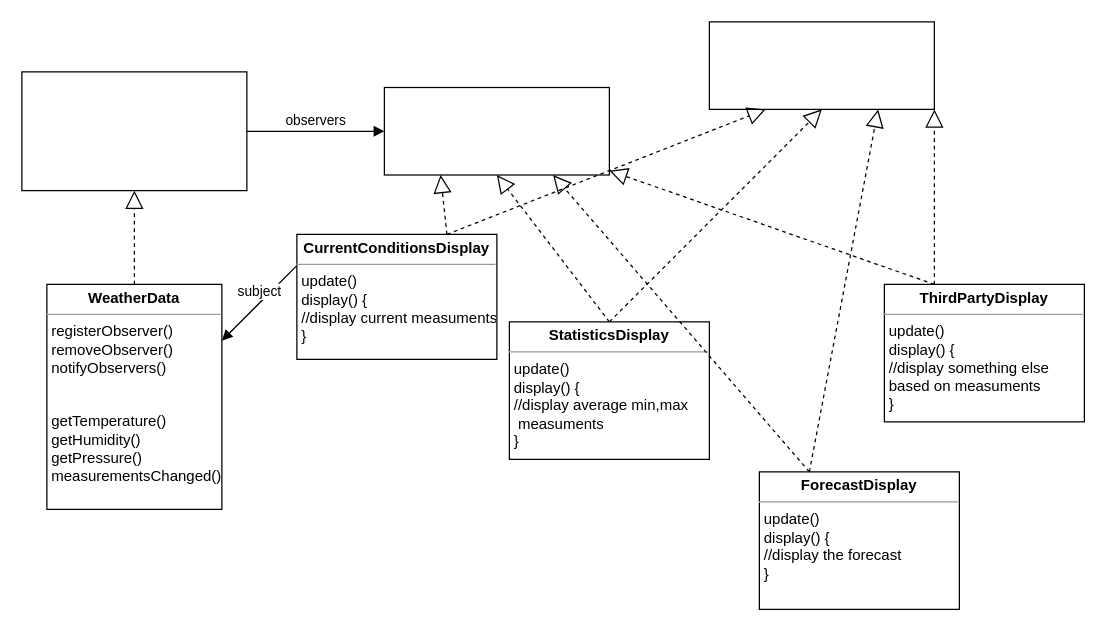
The diagram is 1106 pixels wide and 631 high, and some of its shapes have lost their labels. Each missing label, with the centre of its shape:
"<<Interface>> DisplayElement display()" goes at pixel 821 65.
"<<Interface>> Observer update()" goes at pixel 496 130.
"<<Interface>> Subject registerObserver() removeObserver() notifyObservers()" goes at pixel 134 131.
